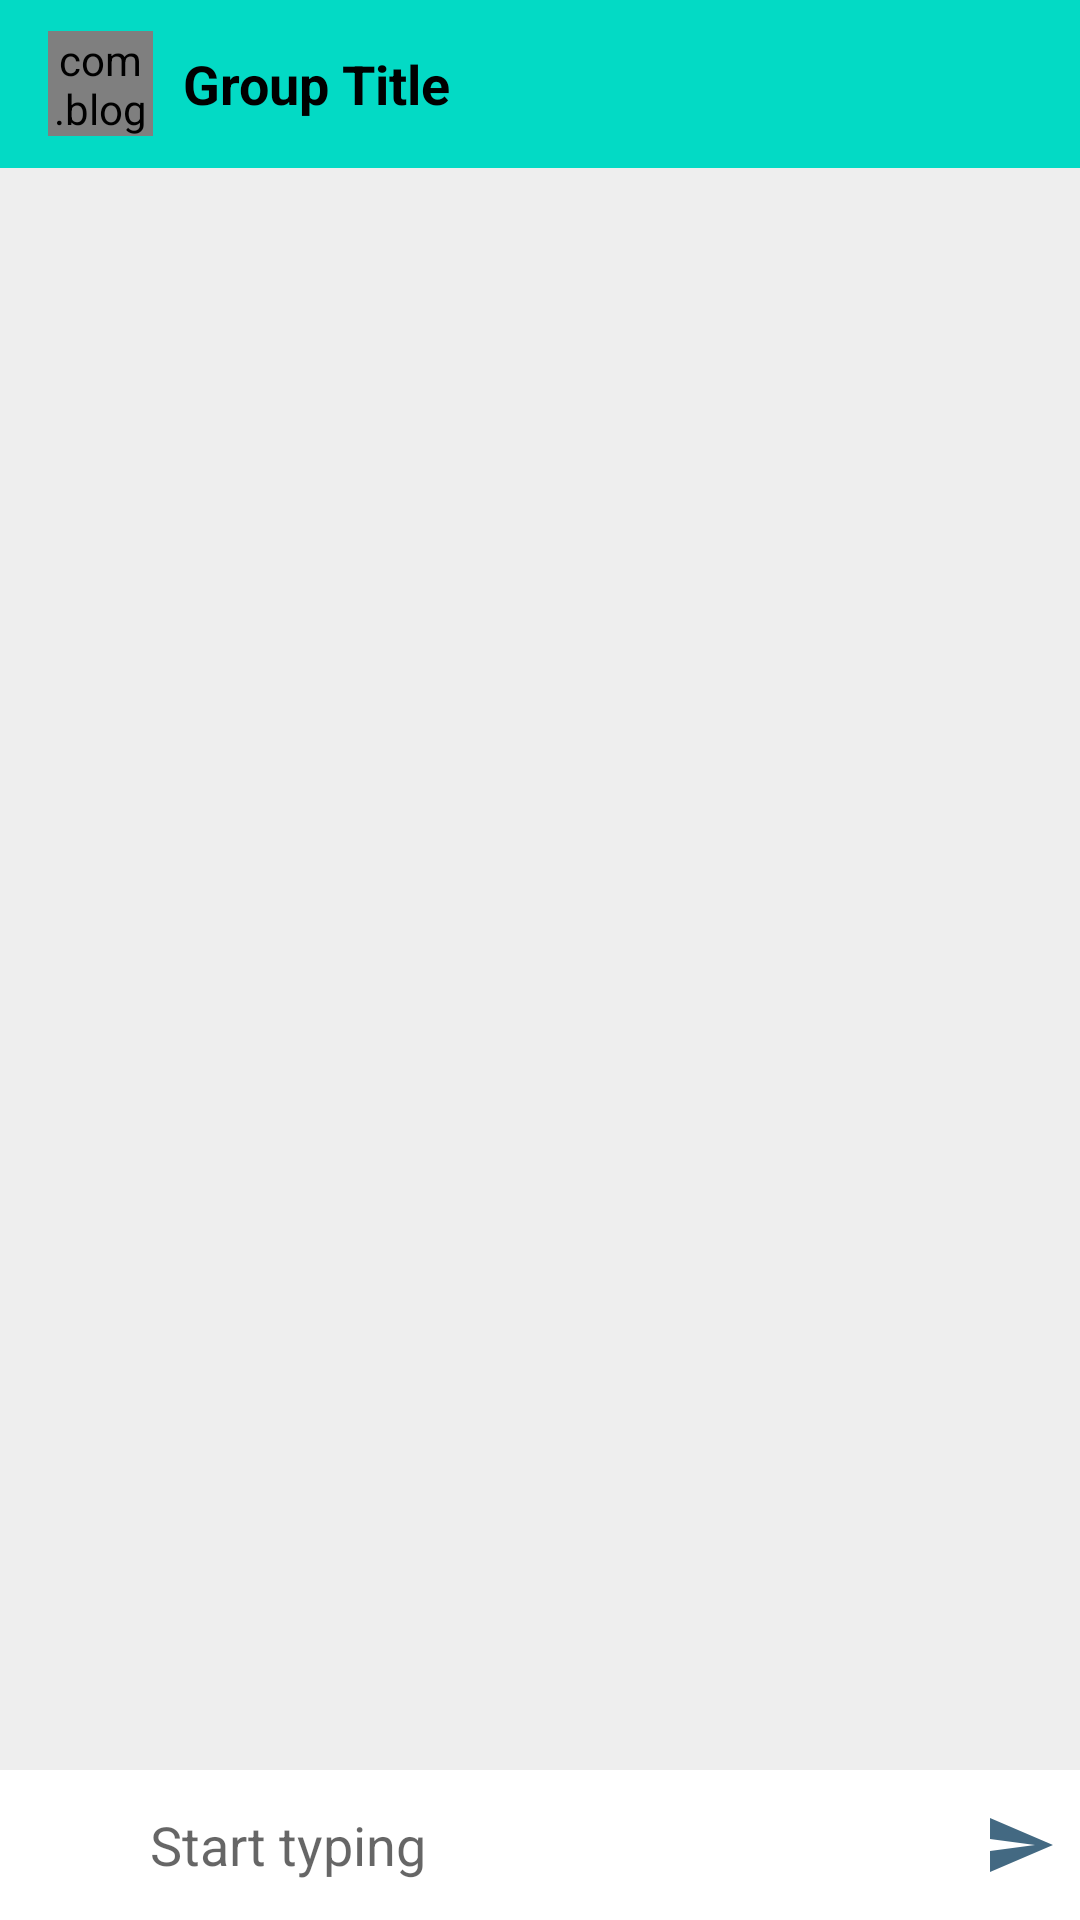

Icons on this 1080w x 1920h Android screen, each with its box as detection(x1, y1, x2, y2):
send: detection(990, 1818, 1053, 1872)
